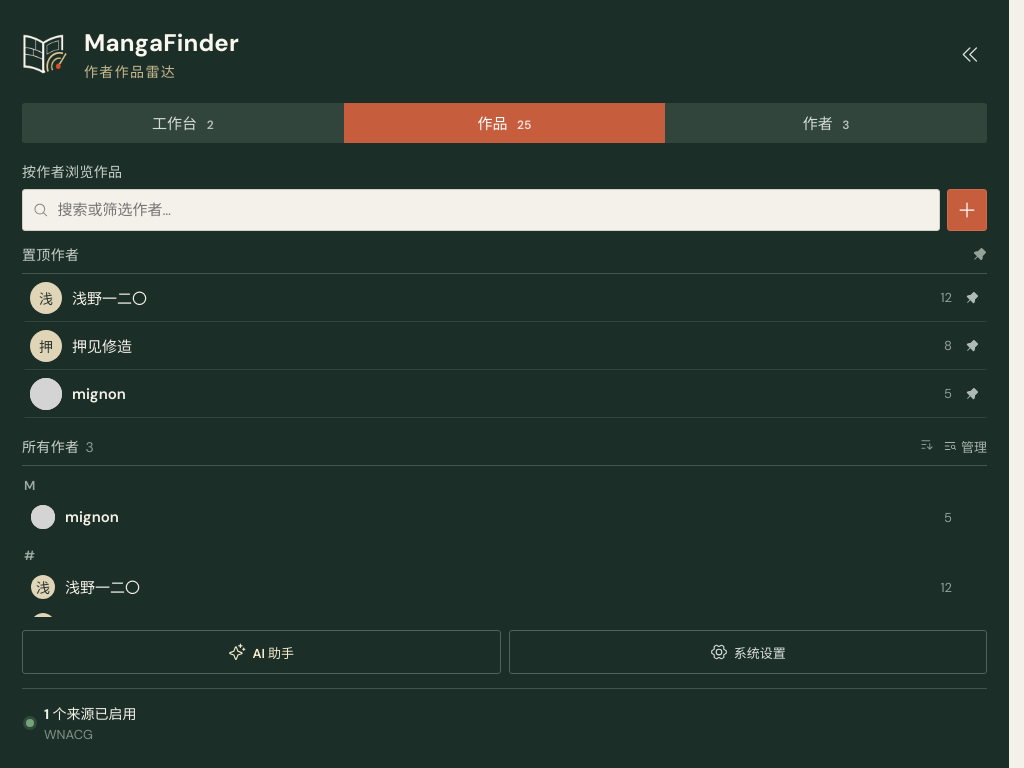
Test: AuthorSidebar › persists the collapsed state and keeps parity across expanded and compact rails
Click the button named "收起资料库导航" at {"x": 970, "y": 54}, box [953,34,987,74]
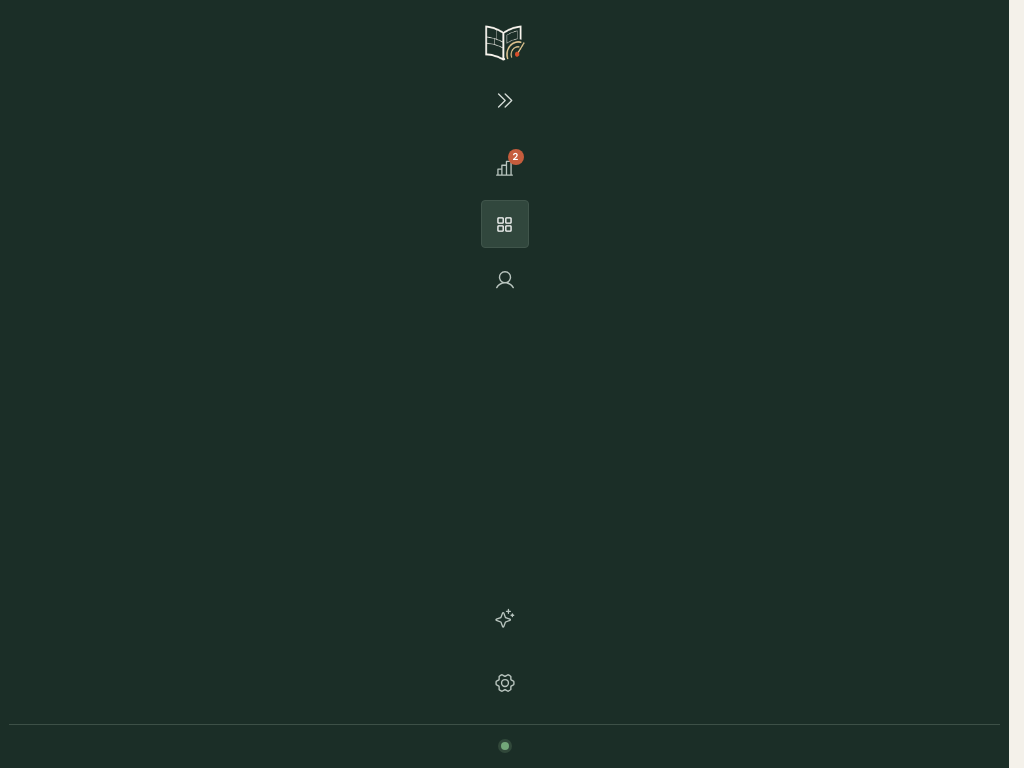
Expected: the button named "工作台" is shown, [480,144,528,192]
Now the button named "作品库" is shown, box [480,200,528,248]
Now the button named "作者中心" is shown, box [480,256,528,304]
Click the button named "展开资料库导航" at {"x": 504, "y": 100}, box [488,80,522,120]
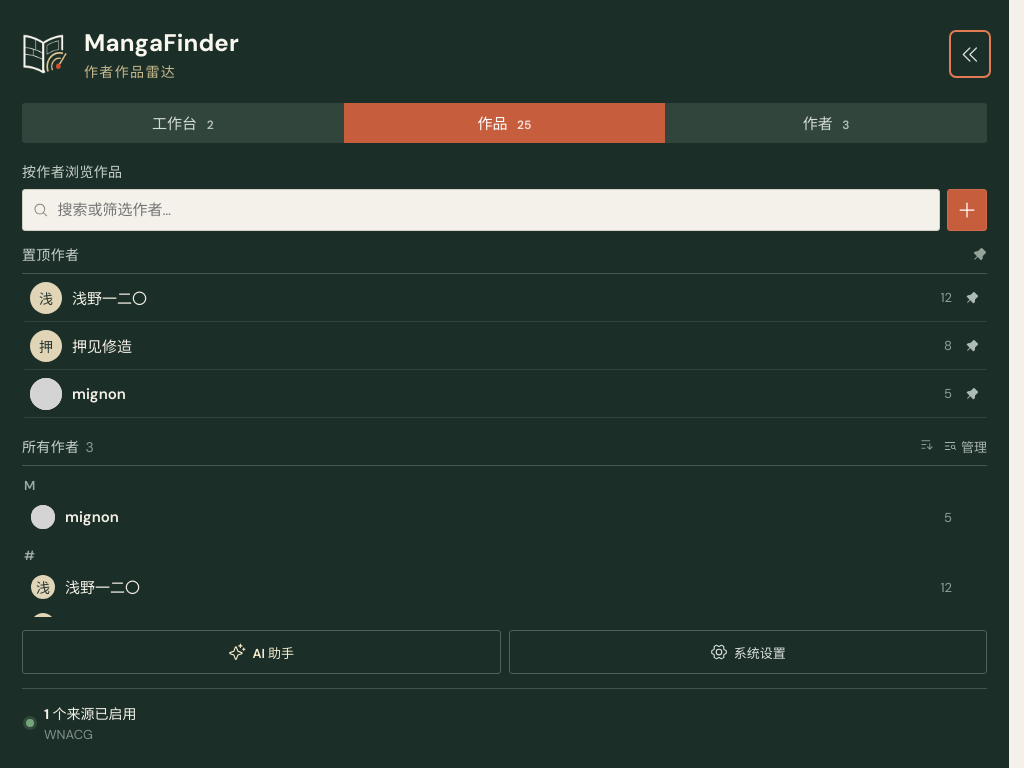
Now the element named "资料库导航" has class "expanded"
